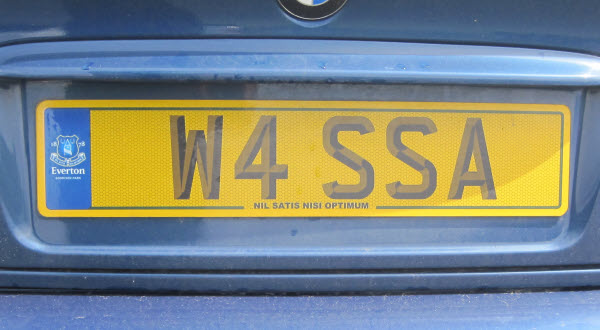license_plate: (36, 99, 570, 219)
